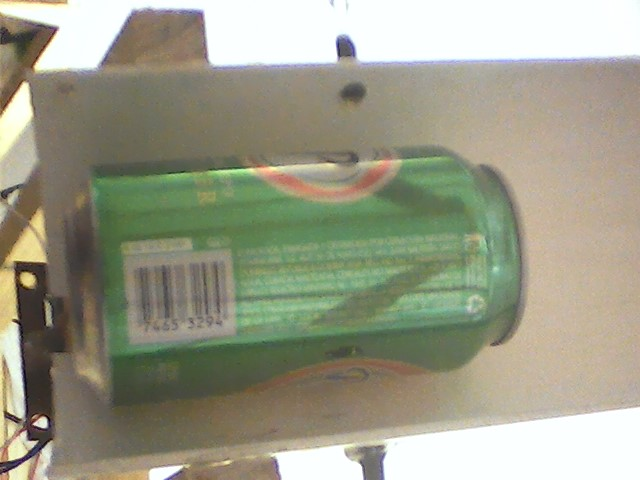lata: (59, 139, 544, 405)
